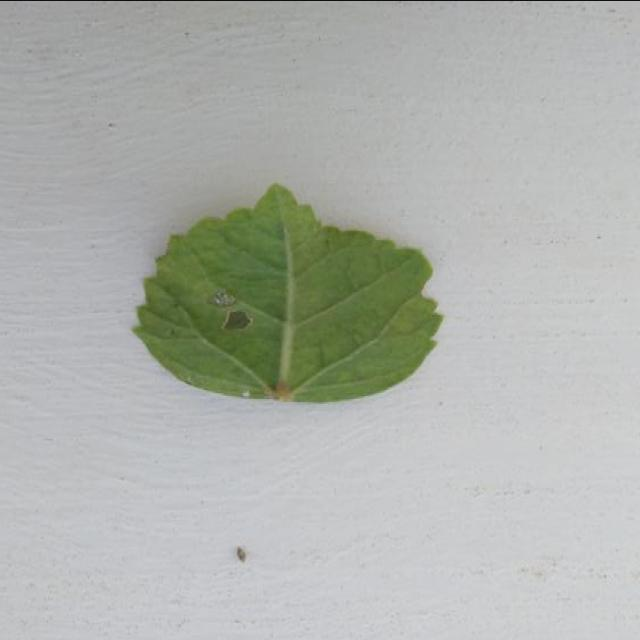leaf: (131, 181, 443, 403)
